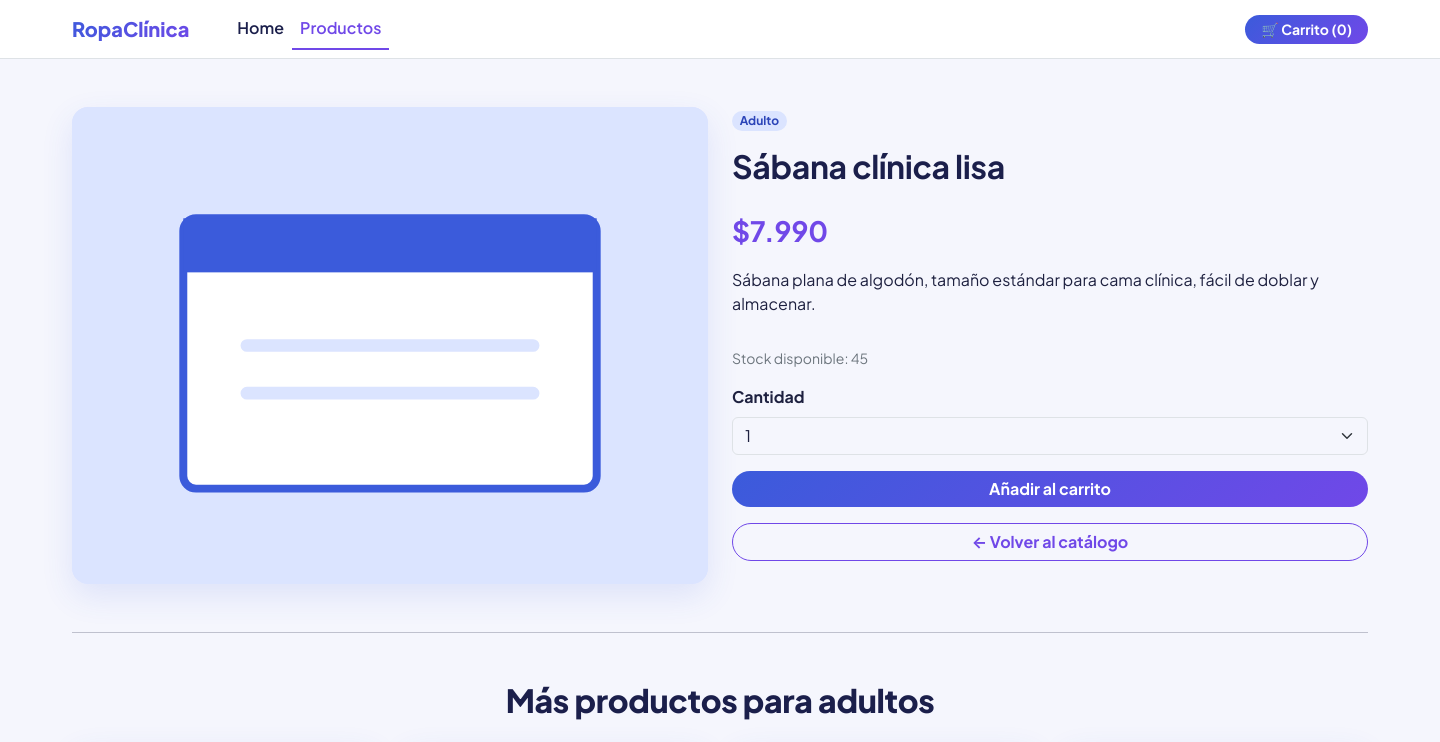
it: Carrito (estado) › el cupón DUOC10 aplica 10% de descuento
The image size is (1440, 742).
Click the button "Añadir al carrito": click(1050, 489) [732,471,1368,507]
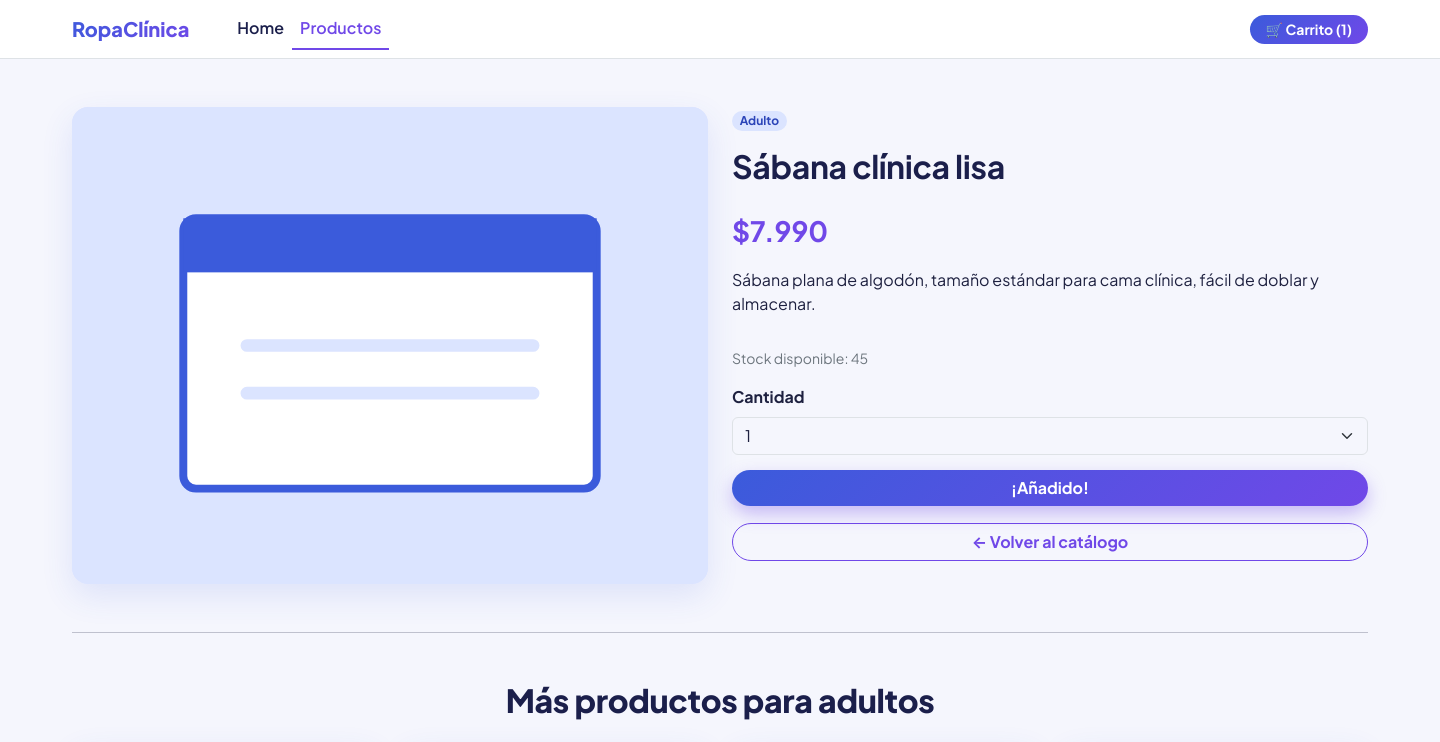
Click the link "🛒 Carrito (1)": click(1309, 29) [1250,14,1368,44]
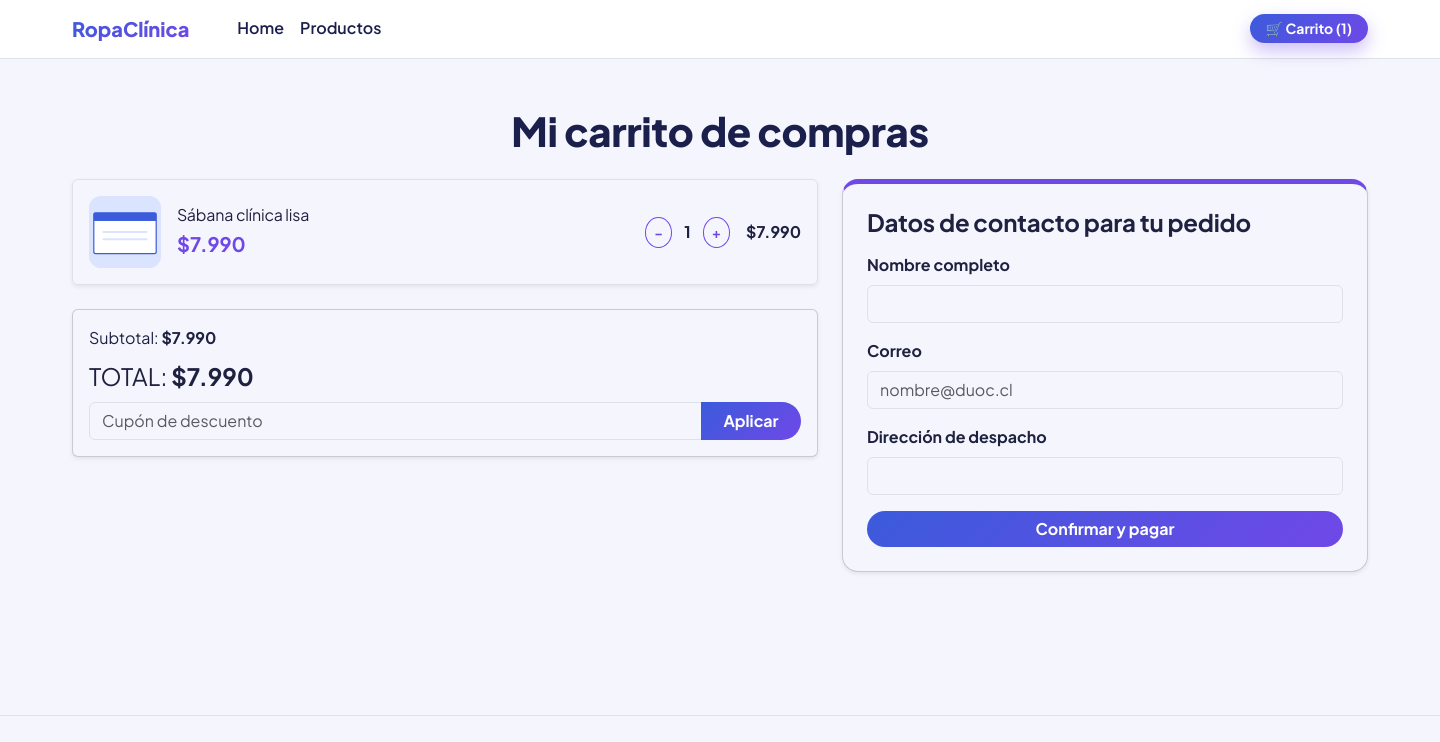
In the field labelled "Cupón de descuento": (396, 421) [89,402,702,440], type "duoc10"
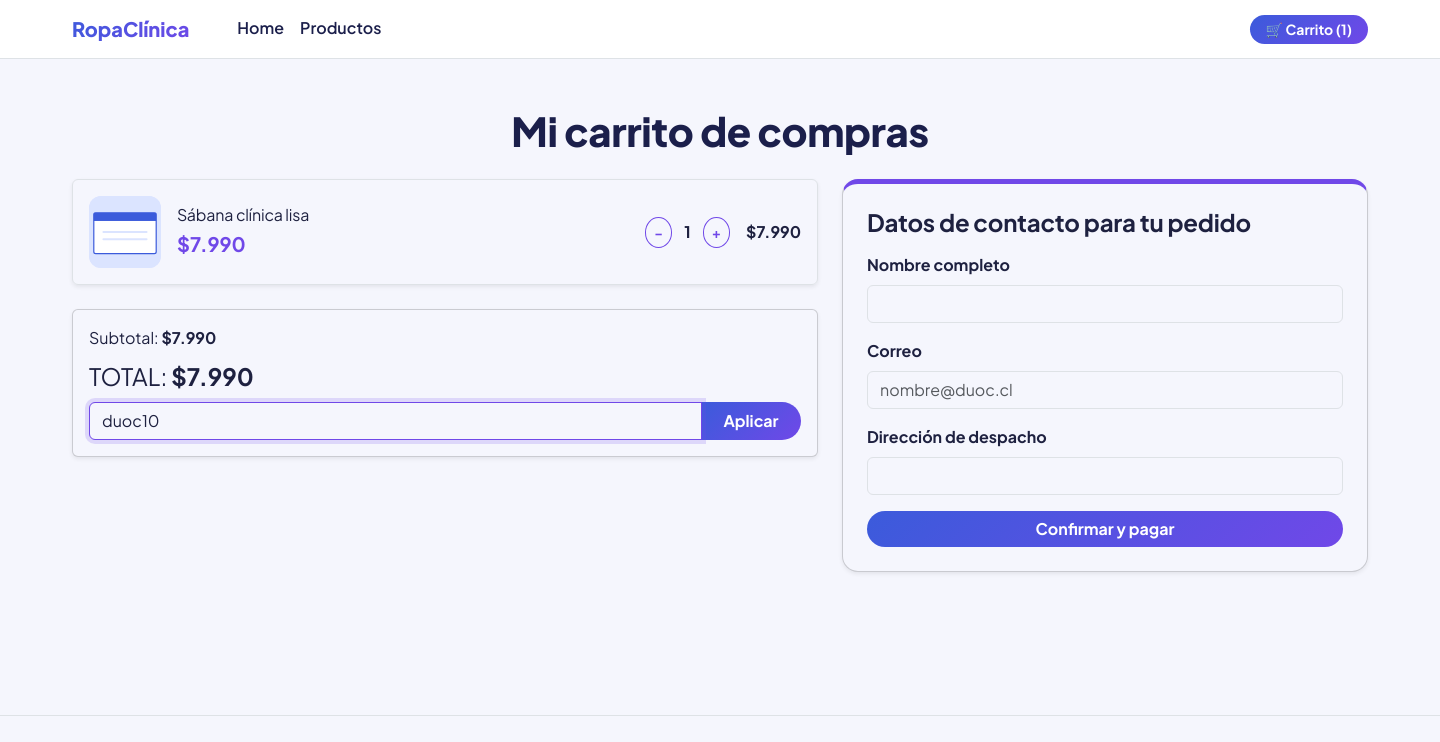
Click the button "Aplicar": click(751, 421) [701,402,801,440]
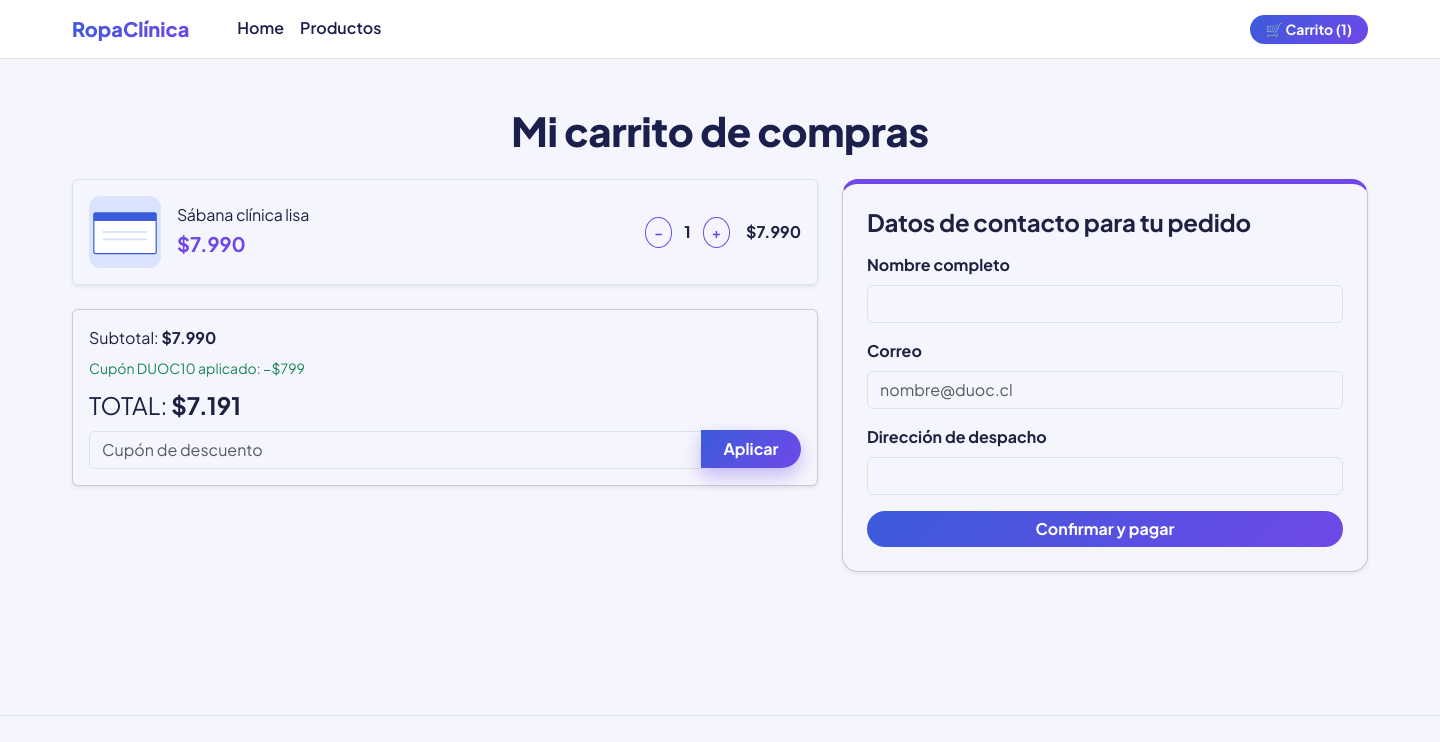
Expected: the text with test id "total" reads "$7.191", [171,390,241,420]
